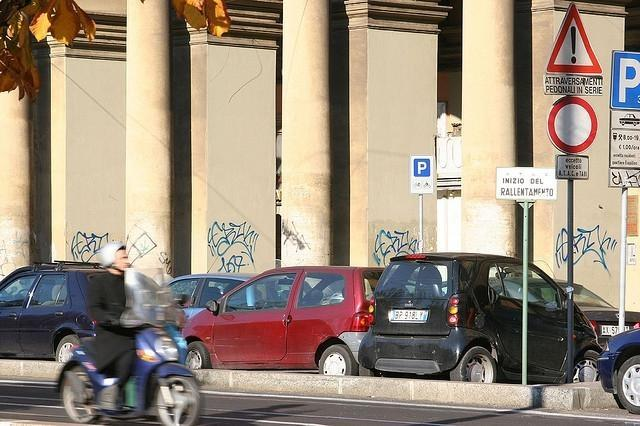car: (363, 256, 603, 386), (178, 266, 386, 378), (0, 264, 129, 368), (159, 273, 261, 318), (552, 278, 640, 326), (599, 328, 640, 414)
motorcycle: (63, 262, 209, 426)
